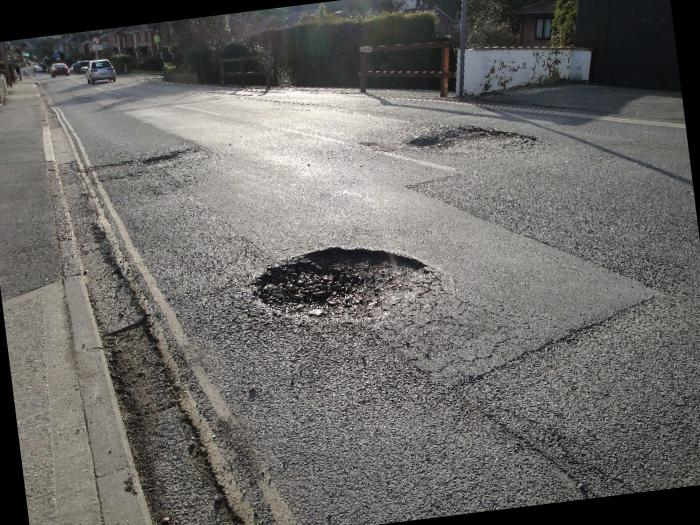pothole: (9, 39, 271, 525), (238, 230, 440, 342), (386, 110, 544, 180)
